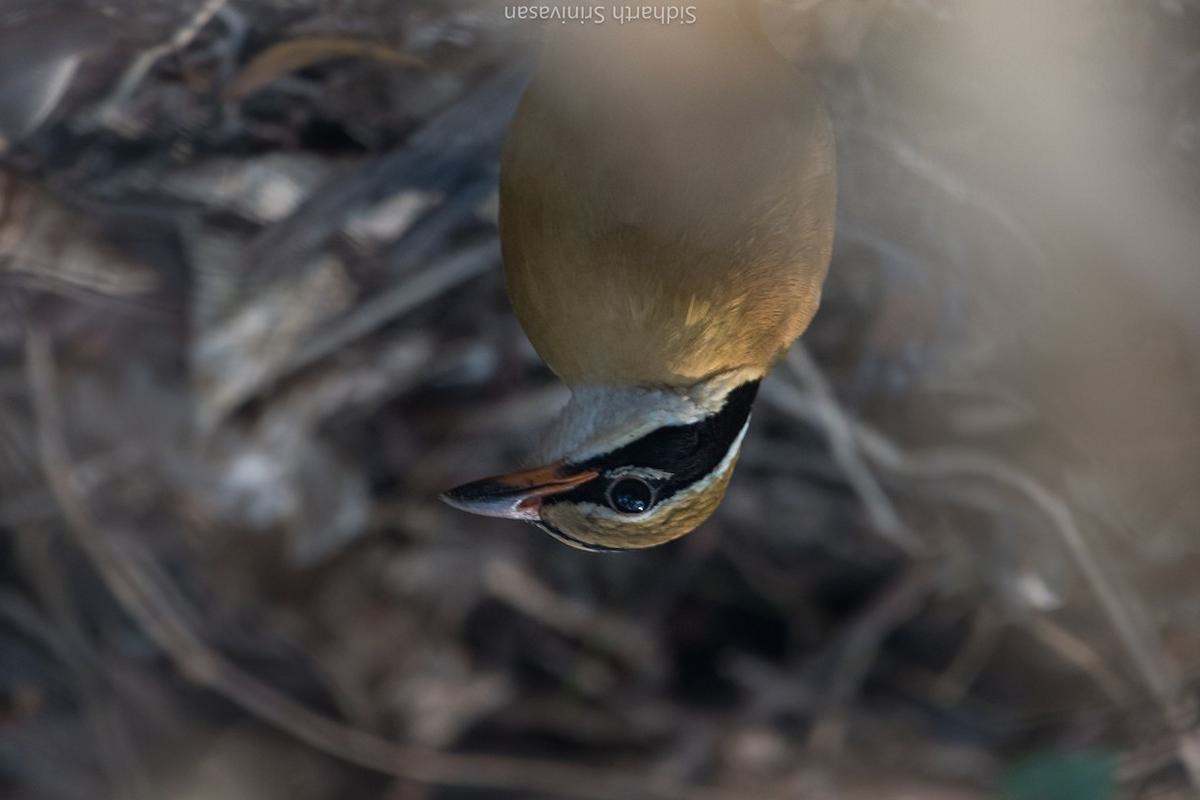pitta: (420, 2, 886, 557)
